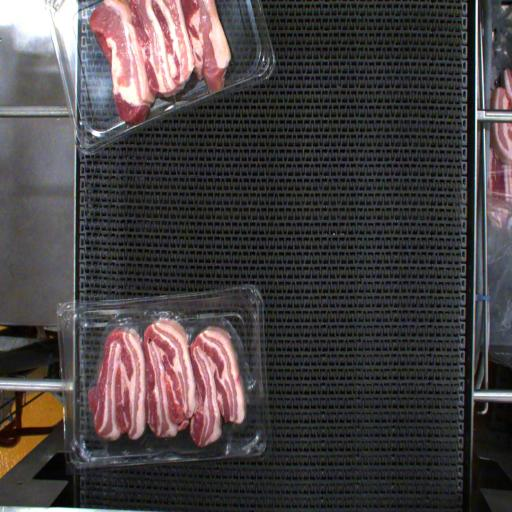unsealed: (88, 305, 260, 393)
